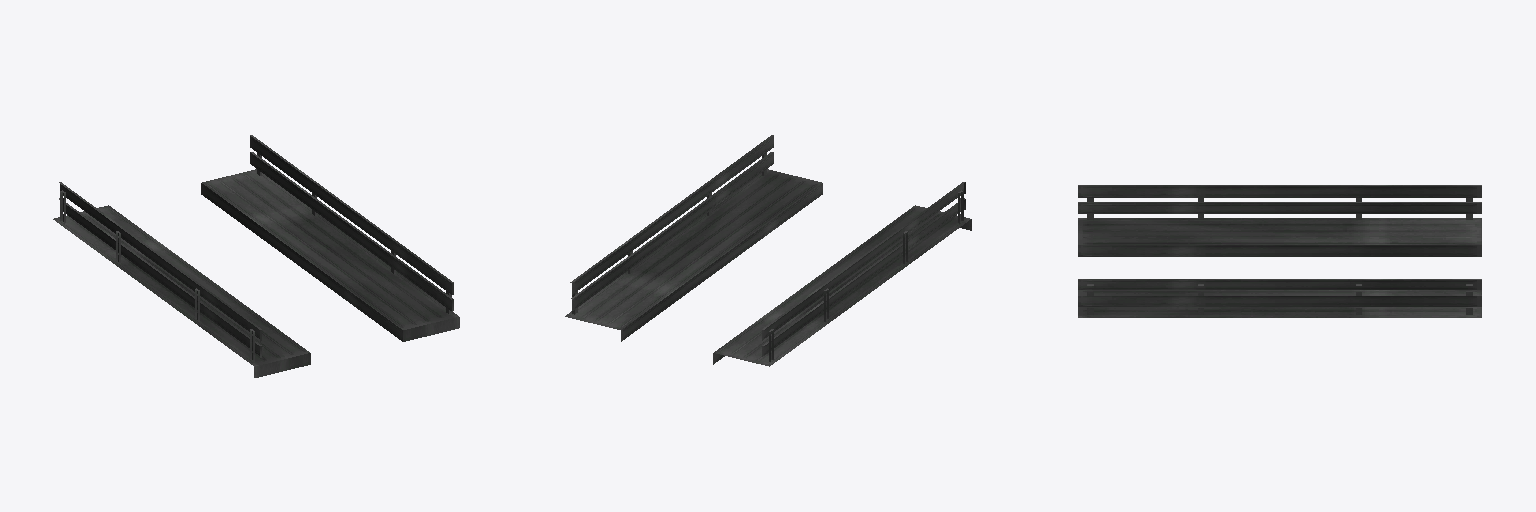
3 views of the same model, side by side, from view 1: azimuth 30°, elevation 25°; view 2: azimuth 150°, elevation 25°; view 3: azimuth 270°, elevation 25° (orthographic).
Visible parts, largest first — view 1: benches; view 2: benches; view 3: benches.
Part boxes in pixels (x1,y1,x2,y2): benches: (53, 135, 459, 377); benches: (565, 135, 971, 366); benches: (1078, 185, 1481, 317).
Bounding box in the file's own units: 15.37 × 3.38 × 26.18.
Materials: 1 (1 with a texture image).